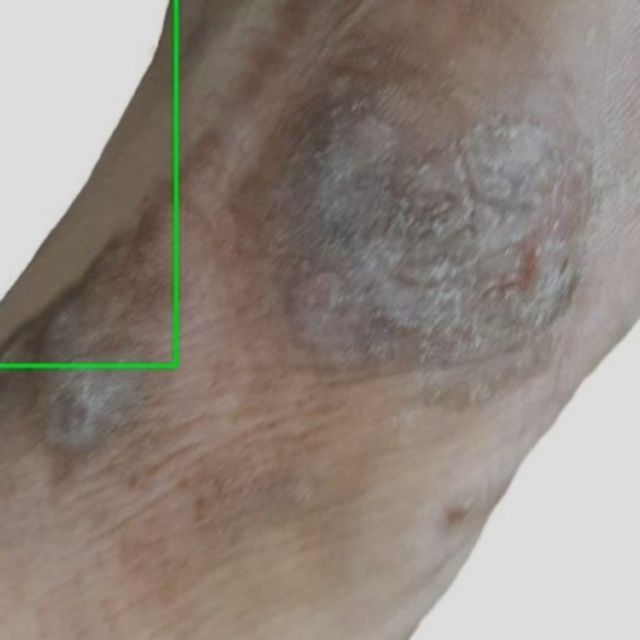Contact Dermatitis: (0, 0, 176, 365)
